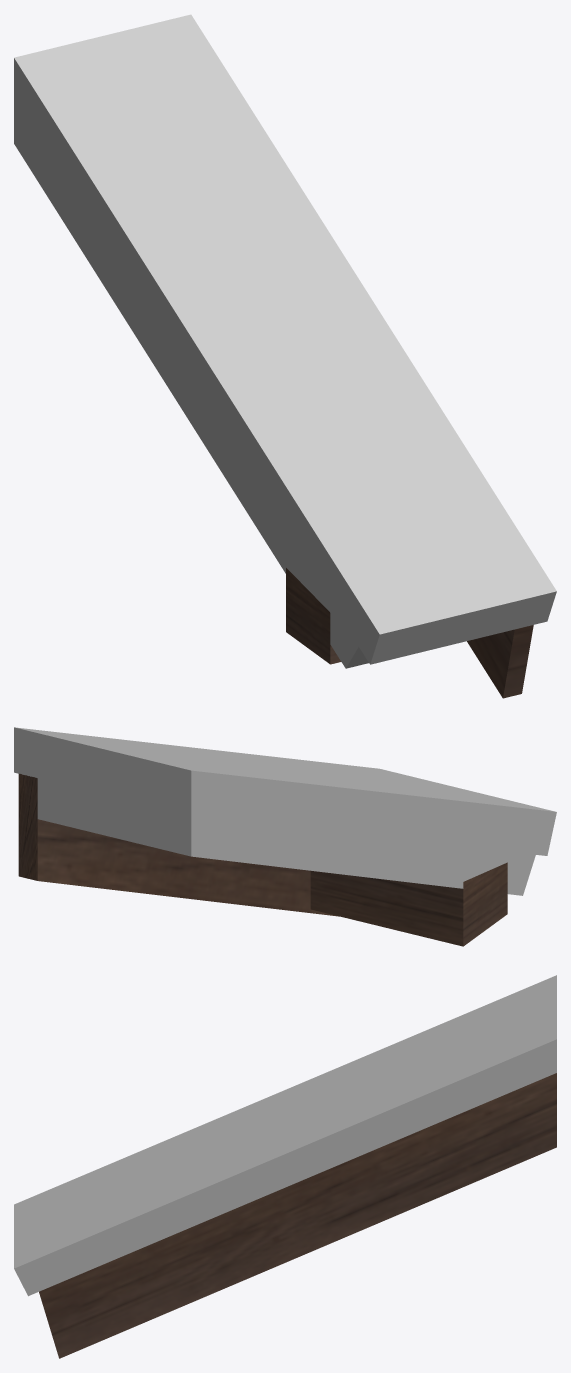
Rendered from kawara__x0t_a1end_l.fbx.
The picture shows the model from 3 angles, top to bottom: view 1: azimuth 30°, elevation 25°; view 2: azimuth 150°, elevation 25°; view 3: azimuth 270°, elevation 25°; orthographic projection. The views are drawn at different scales.
Parts seen in each view (by area): view 1: kawara__x0t_a1end_l; view 2: kawara__x0t_a1end_l; view 3: kawara__x0t_a1end_l.
Part boxes in pixels (<box>): kawara__x0t_a1end_l: <box>14,14,556,698</box>; kawara__x0t_a1end_l: <box>14,727,556,946</box>; kawara__x0t_a1end_l: <box>14,975,556,1358</box>.
Bounding box in the file's own units: 30 × 70.04 × 107.
